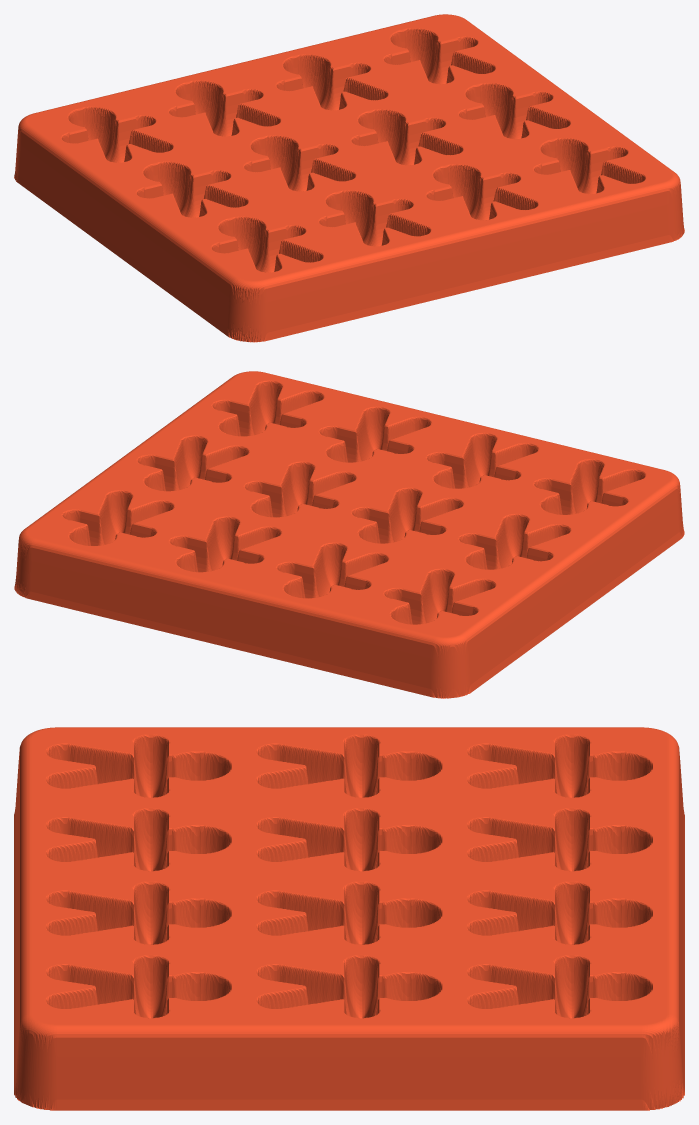
File: mold.glb
3 renders of one model, top to bottom at view 1: azimuth 30°, elevation 25°; view 2: azimuth 150°, elevation 25°; view 3: azimuth 270°, elevation 25°, orthographic. The views are drawn at different scales.
Visible parts, largest first — view 1: geometry_0; view 2: geometry_0; view 3: geometry_0.
Boxes of the visible parts, left/top/right/bottom form: geometry_0: left=14, top=14, right=684, bottom=342; geometry_0: left=14, top=371, right=684, bottom=698; geometry_0: left=14, top=727, right=684, bottom=1110.
Size of the model in its own units: 0.1545 by 0.0182 by 0.141.
